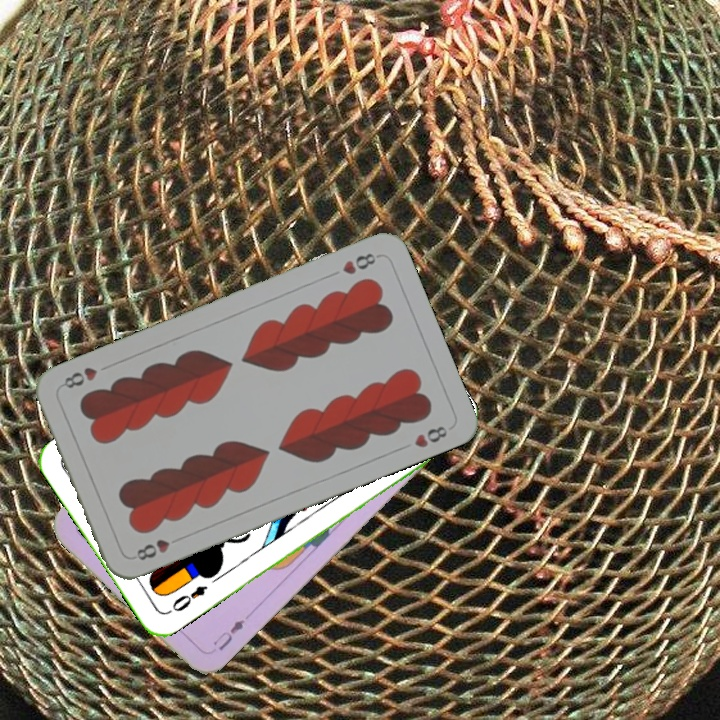EO: (167, 581, 210, 614)
EU: (208, 615, 248, 654)
H8: (338, 249, 383, 277), (132, 535, 172, 563)
